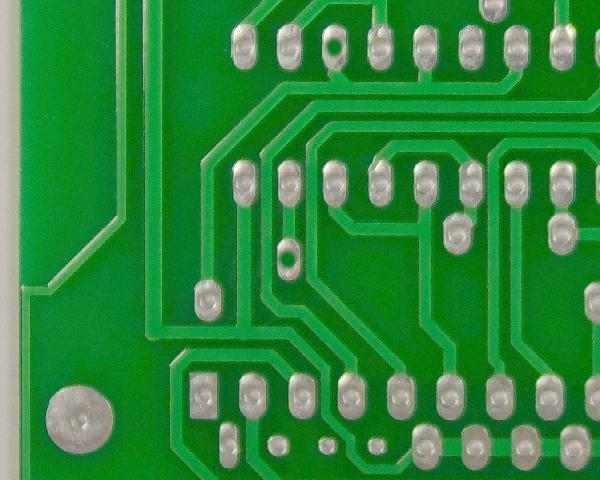missing hole: (316, 19, 352, 79), (271, 231, 307, 285)
